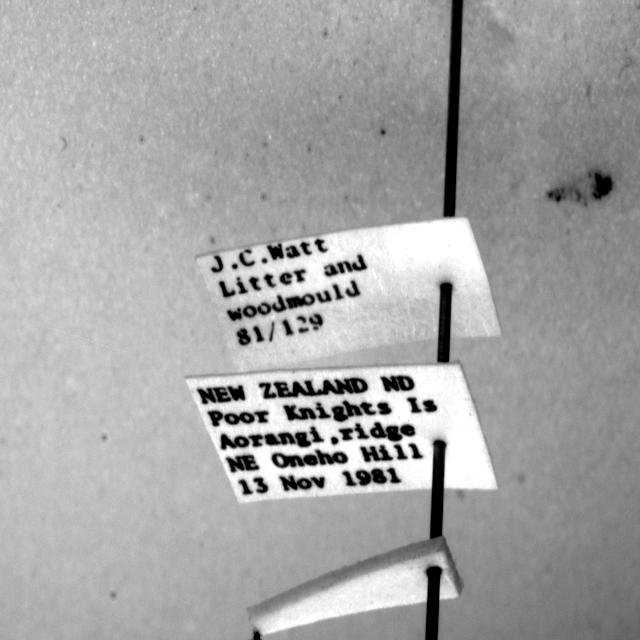typed_label: (198, 218, 500, 371), (186, 364, 496, 502)
